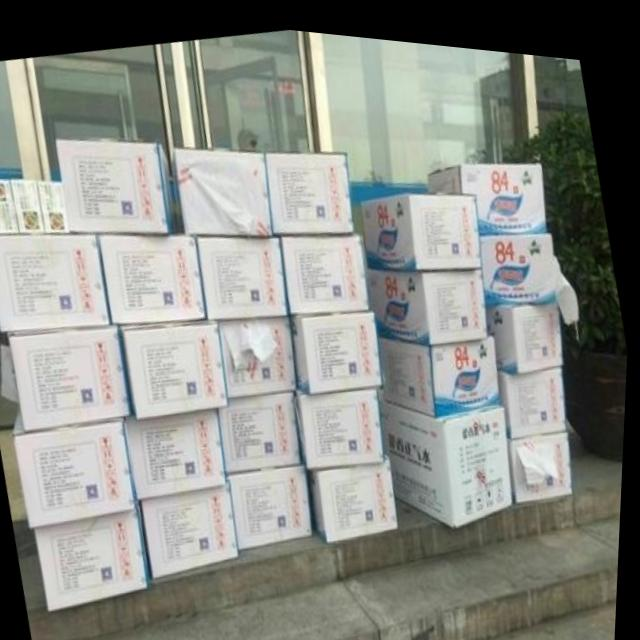box: (383, 389, 516, 519), (16, 408, 140, 527), (10, 321, 132, 432), (38, 499, 156, 610), (57, 137, 177, 231), (0, 232, 112, 331), (124, 317, 232, 416), (379, 325, 504, 405), (99, 230, 208, 320), (127, 404, 230, 496), (363, 183, 484, 261), (146, 478, 243, 575), (367, 258, 490, 334), (173, 144, 273, 230), (429, 152, 547, 224), (311, 444, 402, 535), (292, 303, 385, 387), (198, 231, 289, 315), (266, 144, 356, 228), (281, 225, 372, 308), (230, 458, 317, 543), (299, 379, 388, 461), (221, 385, 305, 465), (220, 309, 298, 392), (483, 220, 561, 294), (488, 290, 565, 361), (502, 354, 571, 426), (512, 419, 576, 492), (13, 179, 46, 232), (38, 179, 68, 232), (0, 179, 21, 233)
